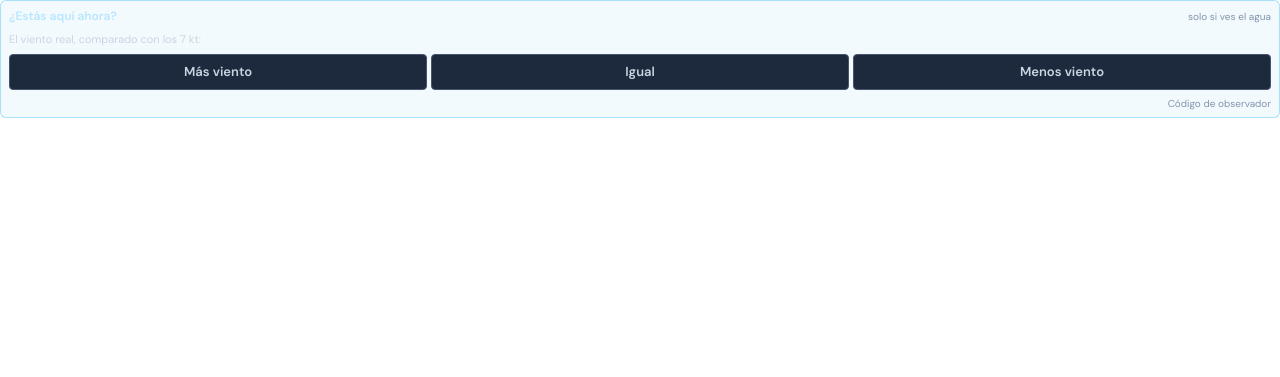
it: SpotReportBox › asks again before sending «Menos viento» with foam when the app shows under 8 kt
Click the button "Menos viento": [1062, 72] box left=853, top=54, right=1271, bottom=90
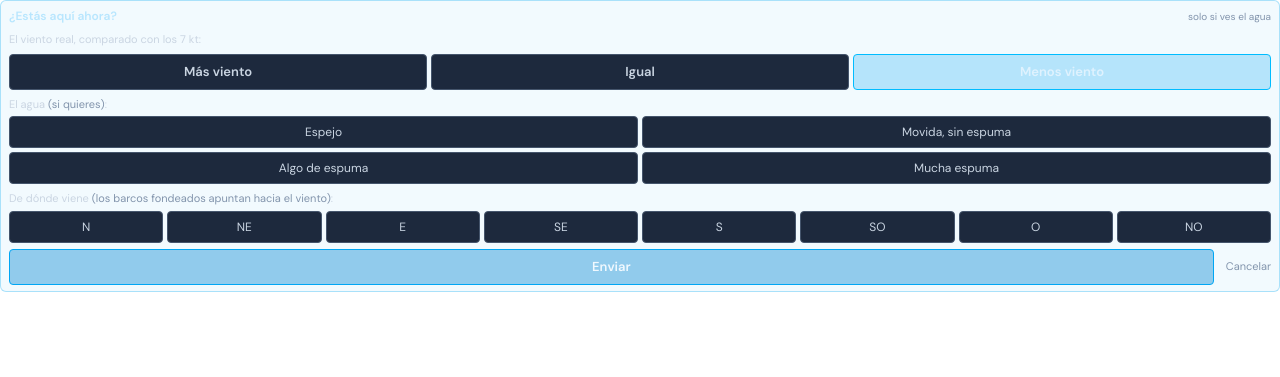
Click the button "Algo de espuma": [324, 168] box left=9, top=152, right=638, bottom=184
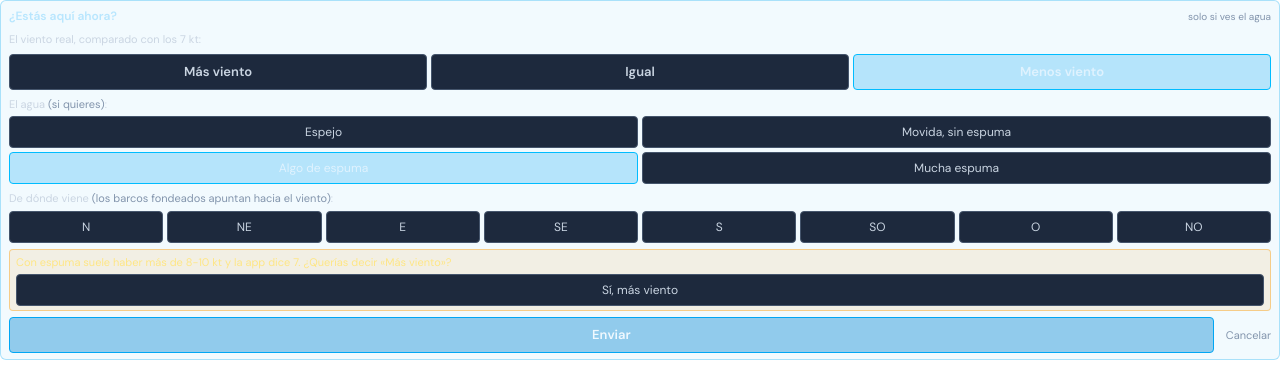
Now the text "¿Querías decir «Más viento»?" is shown, box left=16, top=254, right=451, bottom=268
Click the button "Sí, más viento": [640, 290] box left=16, top=274, right=1264, bottom=306
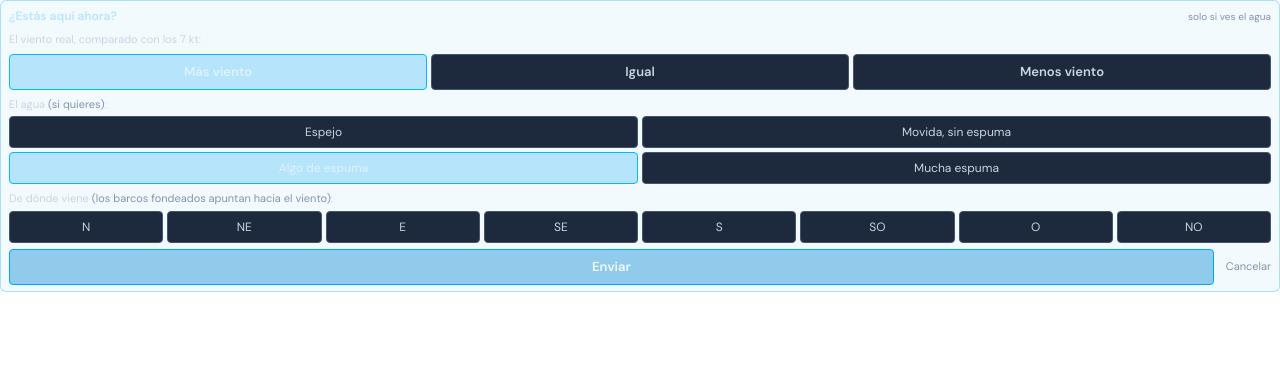
Now the text "¿Querías decir" is gone
